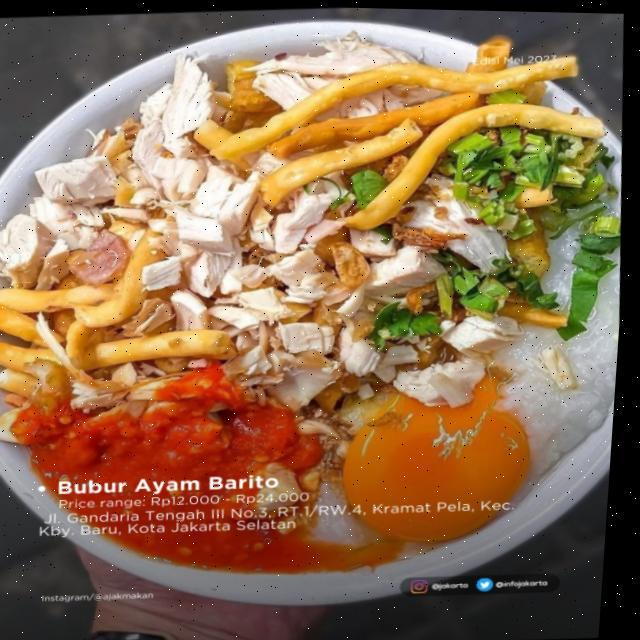bubur ayam: (0, 7, 640, 594)
mangkuk: (0, 0, 640, 637)
sambal: (1, 358, 352, 580)
